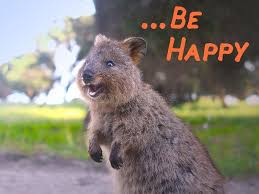quokka: (73, 31, 229, 194)
